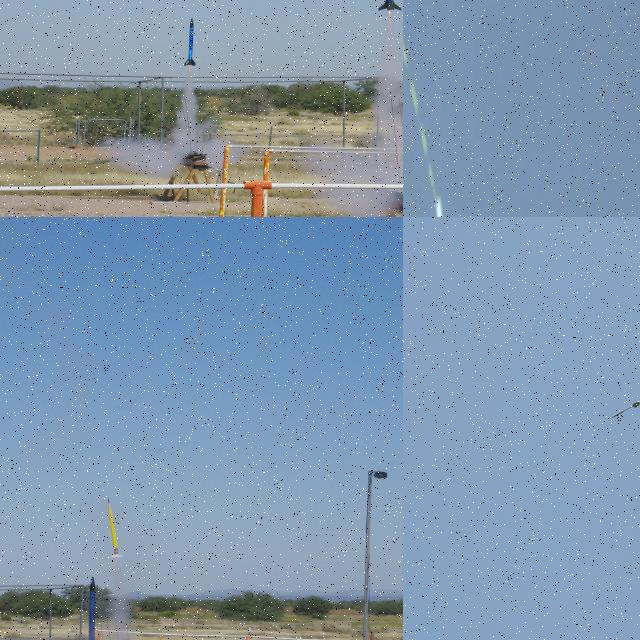Rocket: (78, 576, 102, 640), (107, 497, 124, 559), (184, 17, 198, 66), (611, 401, 640, 418)
